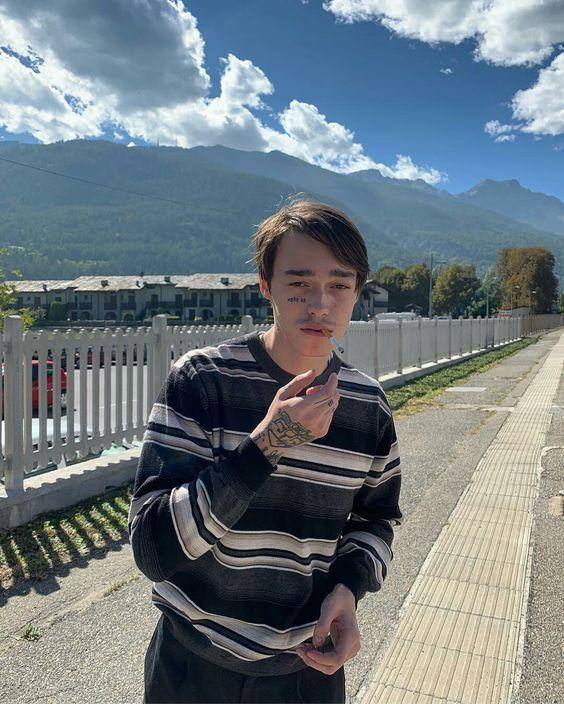cigarette: (321, 329, 344, 353)
